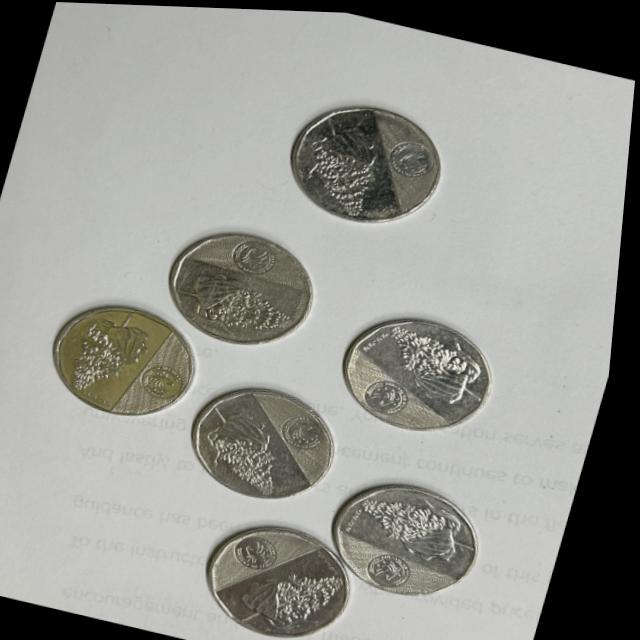10_New_Back: (281, 104, 404, 216), (47, 297, 173, 405), (354, 479, 500, 572), (362, 308, 504, 397), (231, 549, 365, 640), (198, 400, 313, 500), (174, 267, 317, 336)
